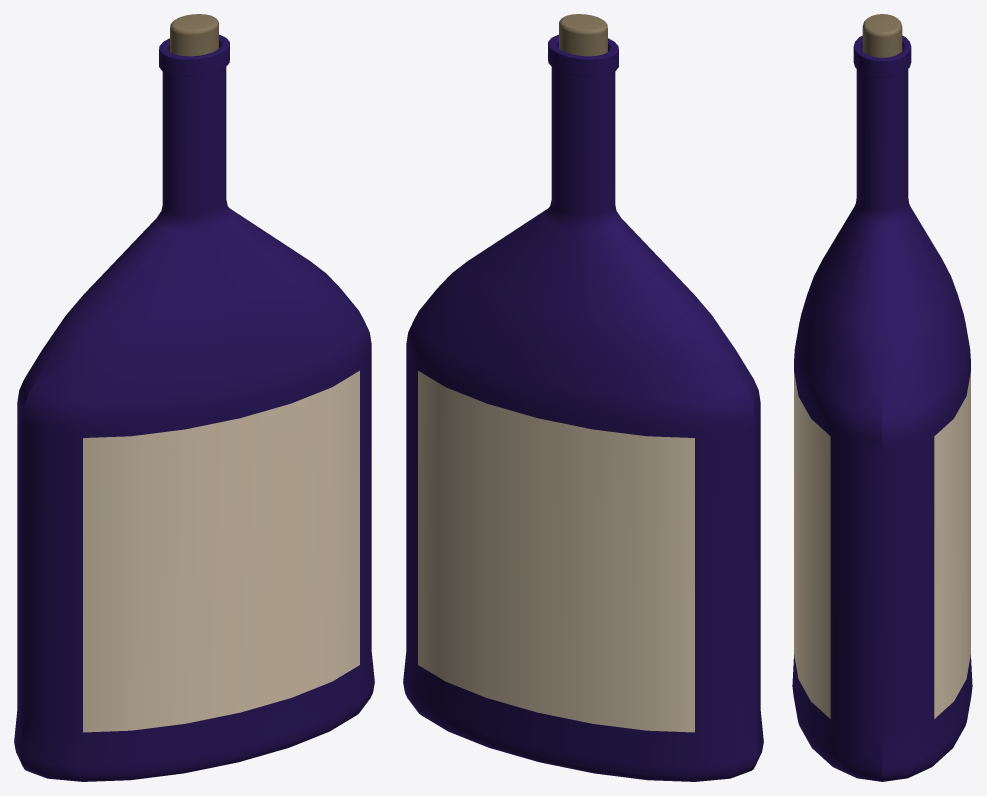
File: blue_whiskey_glass.fbx
The picture shows the model from 3 angles, left to right: view 1: azimuth 30°, elevation 25°; view 2: azimuth 150°, elevation 25°; view 3: azimuth 270°, elevation 25°; orthographic projection. The views are drawn at different scales.
Visible parts, largest first — view 1: whiskey_bottle; view 2: whiskey_bottle; view 3: whiskey_bottle.
Boxes of the visible parts, bbox=[...] form: whiskey_bottle: bbox=[14, 14, 374, 781]; whiskey_bottle: bbox=[403, 14, 763, 781]; whiskey_bottle: bbox=[792, 14, 972, 781].
Size of the model in its own units: 2.04 by 3.96 by 0.9487.
